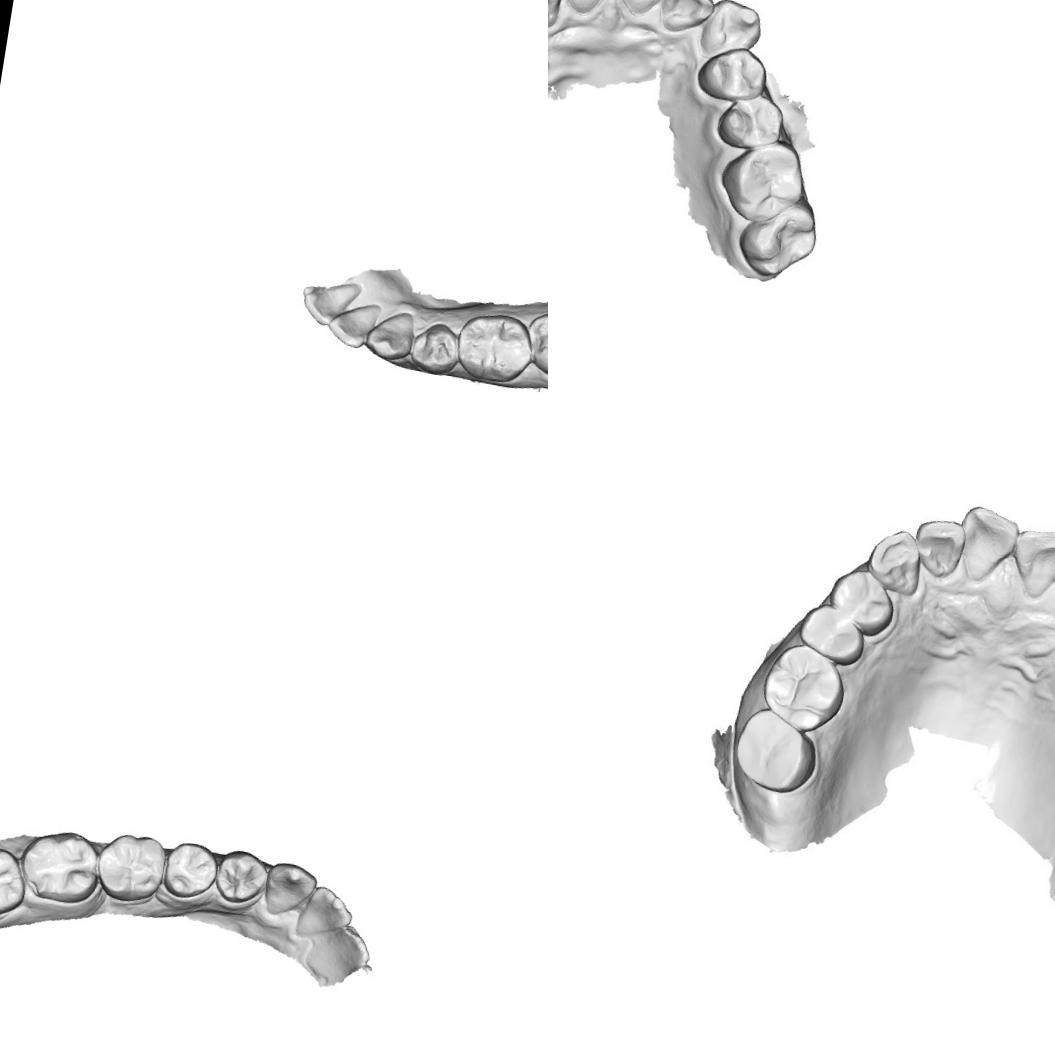canine: (867, 527, 929, 596), (258, 858, 319, 926), (700, 0, 766, 54), (362, 306, 416, 364)
incisor: (300, 918, 376, 988), (956, 508, 1023, 581), (292, 883, 358, 946), (299, 274, 362, 332), (912, 516, 966, 578), (1008, 523, 1055, 594), (324, 296, 382, 352), (660, 0, 716, 42), (613, 0, 675, 16), (551, 0, 616, 14)
molar: (758, 638, 850, 736), (729, 709, 821, 798), (718, 136, 810, 222), (14, 822, 104, 908), (90, 828, 170, 909), (740, 202, 815, 281), (0, 839, 32, 923), (520, 301, 548, 386)
premolar: (451, 306, 537, 388), (790, 601, 868, 671), (824, 567, 897, 640), (156, 834, 222, 903), (696, 45, 773, 104), (210, 844, 272, 912), (719, 94, 783, 151), (405, 318, 464, 379)
